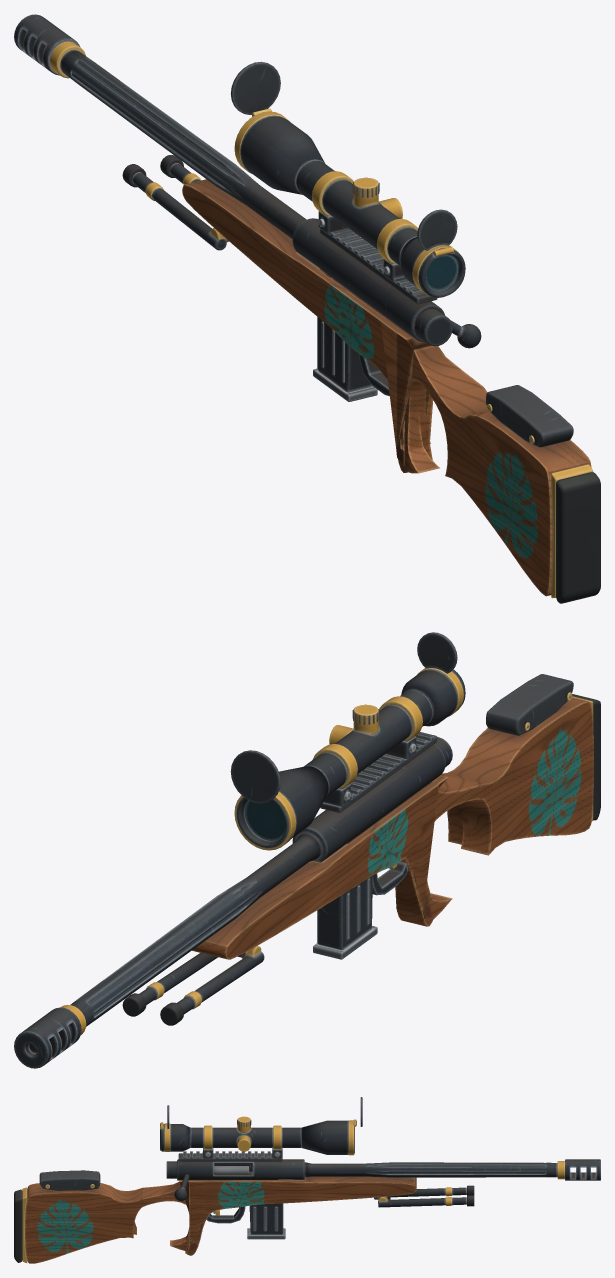
File: sniper.glb
3 renders of one model, top to bottom at view 1: azimuth 30°, elevation 25°; view 2: azimuth 150°, elevation 25°; view 3: azimuth 270°, elevation 25°, orthographic. The views are drawn at different scales.
Parts seen in each view (by area): view 1: sniper_body, sniper_mag_mesh, sniper_bolt_mesh; view 2: sniper_body, sniper_mag_mesh; view 3: sniper_body, sniper_mag_mesh, sniper_bolt_mesh.
Part boxes in pixels (bbox=[...]): sniper_body: bbox=[14, 14, 600, 603]; sniper_mag_mesh: bbox=[313, 317, 377, 401]; sniper_bolt_mesh: bbox=[415, 309, 481, 348]; sniper_body: bbox=[14, 632, 600, 1068]; sniper_mag_mesh: bbox=[313, 876, 377, 959]; sniper_body: bbox=[14, 1097, 600, 1263]; sniper_mag_mesh: bbox=[247, 1203, 285, 1239]; sniper_bolt_mesh: bbox=[166, 1161, 249, 1201].
Bounding box in the file's own units: 0.11 × 0.3822 × 1.27.
Materials: 1 (1 with a texture image).
